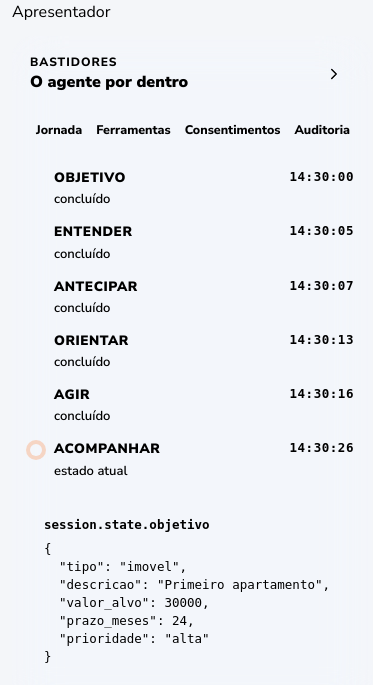
Bastidores › trocar de aba mostra ferramentas da sessão e a auditoria do mais recente
Click the button "Ferramentas".
click(134, 130)  # box top-left (90, 112), bottom-right (177, 148)
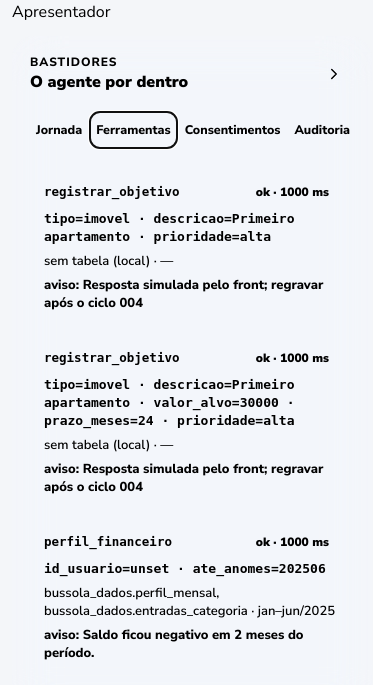
Click the button "Consentimentos".
click(233, 130)  # box top-left (179, 112), bottom-right (286, 148)
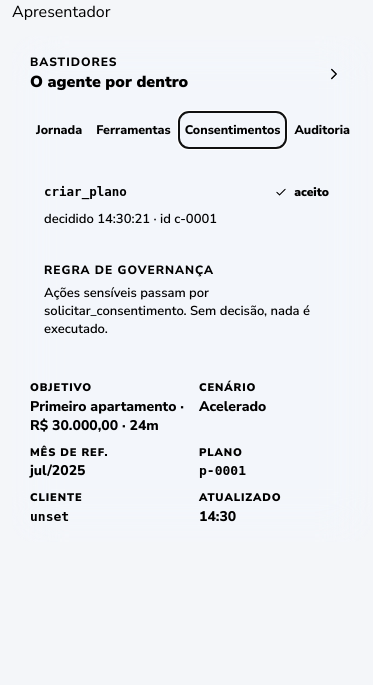
Check: the text "criar_plano" is shown, box top-left (44, 183), bottom-right (127, 201)
Check: the text "aceito" is shown, box top-left (274, 184), bottom-right (329, 200)
Check: the text "Regra de governança" is shown, box top-left (44, 262), bottom-right (214, 278)
Click the button "Auditoria".
click(322, 130)  # box top-left (288, 112), bottom-right (356, 148)
(page scrolled)
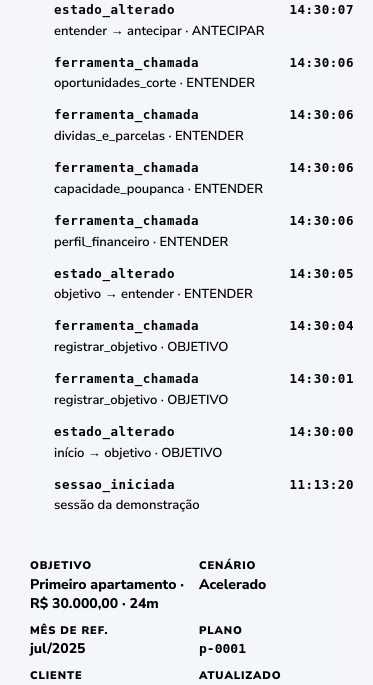
Check: the text "14:30:07" is shown, box top-left (290, 1), bottom-right (354, 20)
Check: the 1st text "14:30:06" is shown, box top-left (290, 54), bottom-right (354, 72)
Check: the 2nd text "14:30:06" is shown, box top-left (290, 106), bottom-right (354, 125)
